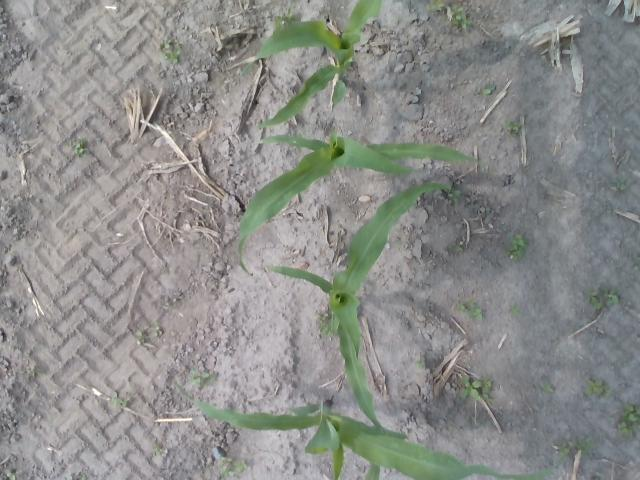Maize: (271, 181, 445, 430), (178, 384, 542, 480), (238, 136, 480, 278), (242, 0, 382, 126)
Weeds: (459, 376, 492, 398), (590, 286, 620, 308), (619, 404, 640, 433), (456, 300, 482, 320), (160, 38, 180, 61), (508, 233, 526, 258), (190, 368, 210, 386), (584, 378, 604, 395), (219, 457, 235, 478), (576, 438, 594, 456), (454, 13, 471, 28), (112, 392, 129, 405), (317, 312, 328, 332), (427, 1, 444, 13), (506, 120, 522, 132), (612, 177, 626, 190), (448, 189, 464, 200), (71, 142, 83, 156), (136, 330, 148, 344), (484, 83, 496, 95), (558, 442, 570, 454), (451, 4, 464, 15), (235, 461, 248, 472), (5, 469, 16, 480), (151, 325, 162, 336), (508, 304, 520, 313), (453, 241, 463, 251), (416, 357, 426, 367), (154, 444, 163, 451)
